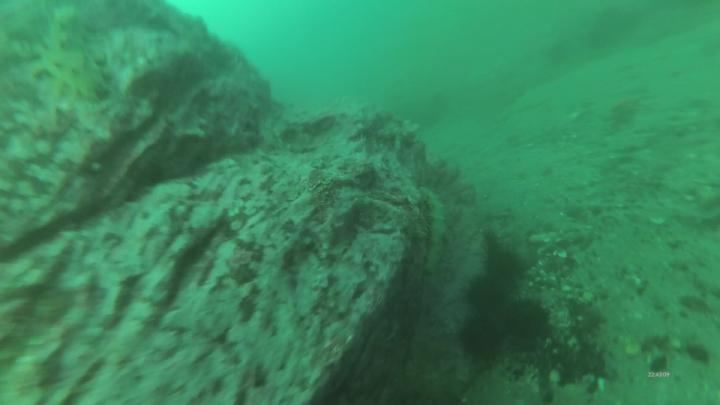echinus: (498, 298, 551, 353), (459, 313, 505, 366), (463, 273, 514, 320), (481, 246, 528, 289)
holothurian: (32, 2, 115, 107), (415, 184, 451, 278)
